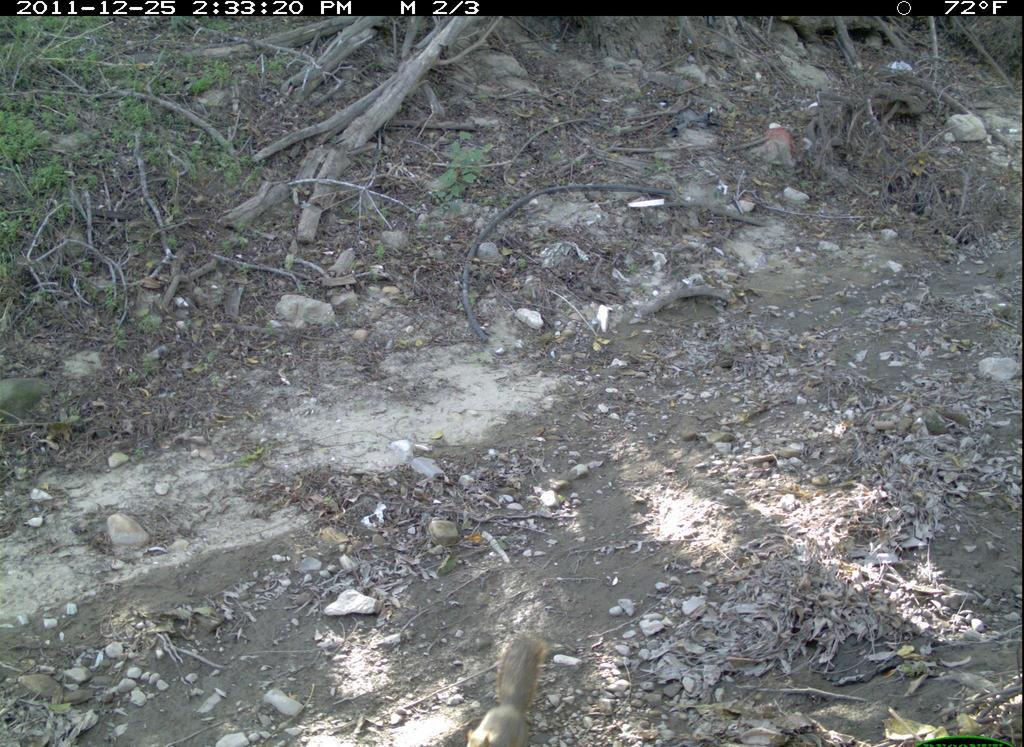squirrel: (459, 621, 548, 745)
